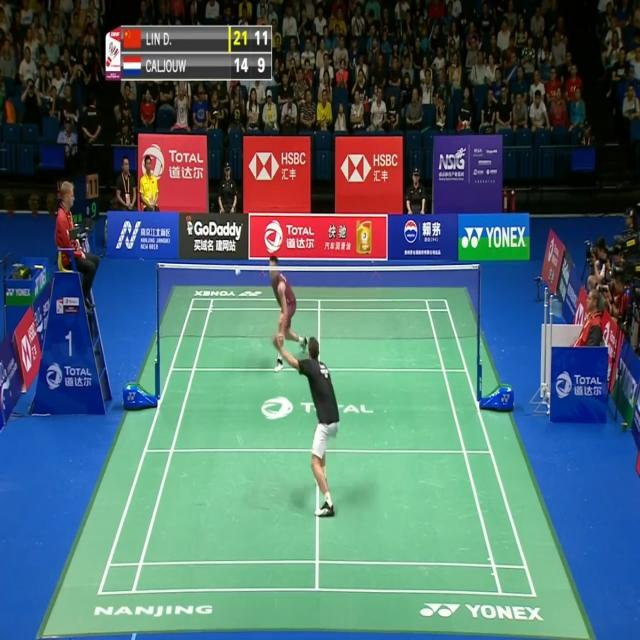Player1: (272, 330, 346, 526)
Player2: (258, 241, 311, 376)
